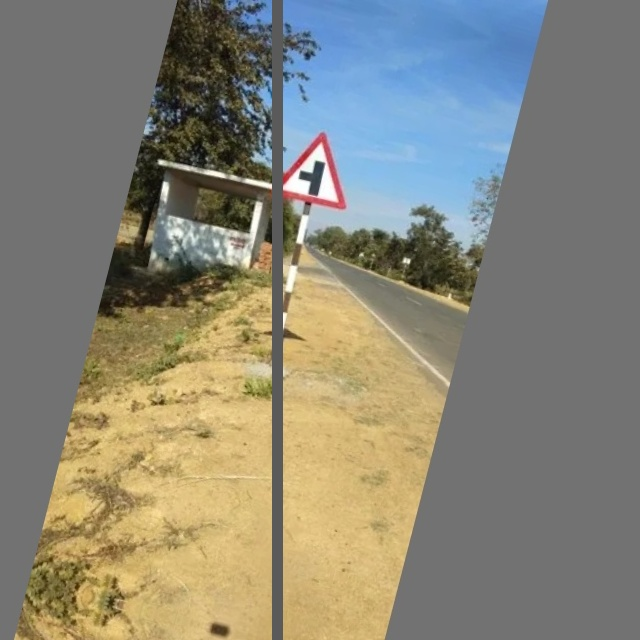Side_Road_Left: (268, 119, 365, 218)
